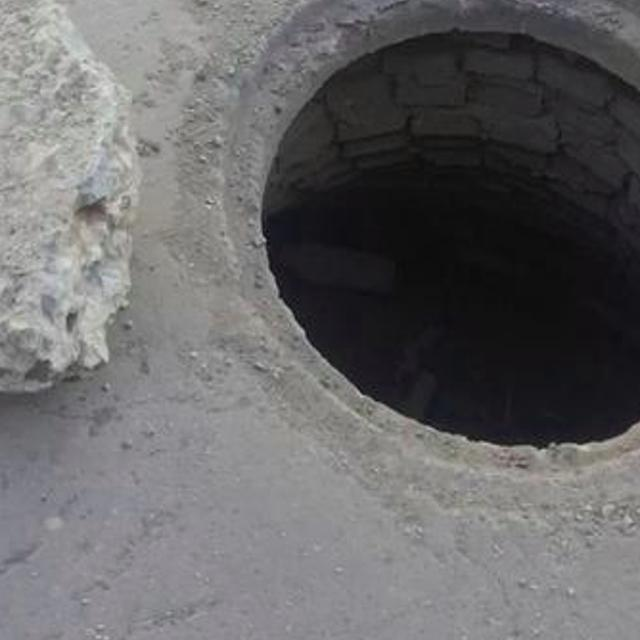lose: (205, 0, 640, 488)
